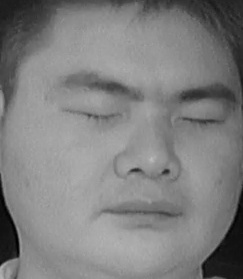blink: (72, 95, 120, 134), (181, 103, 230, 140)
mouth: (98, 191, 186, 235)
